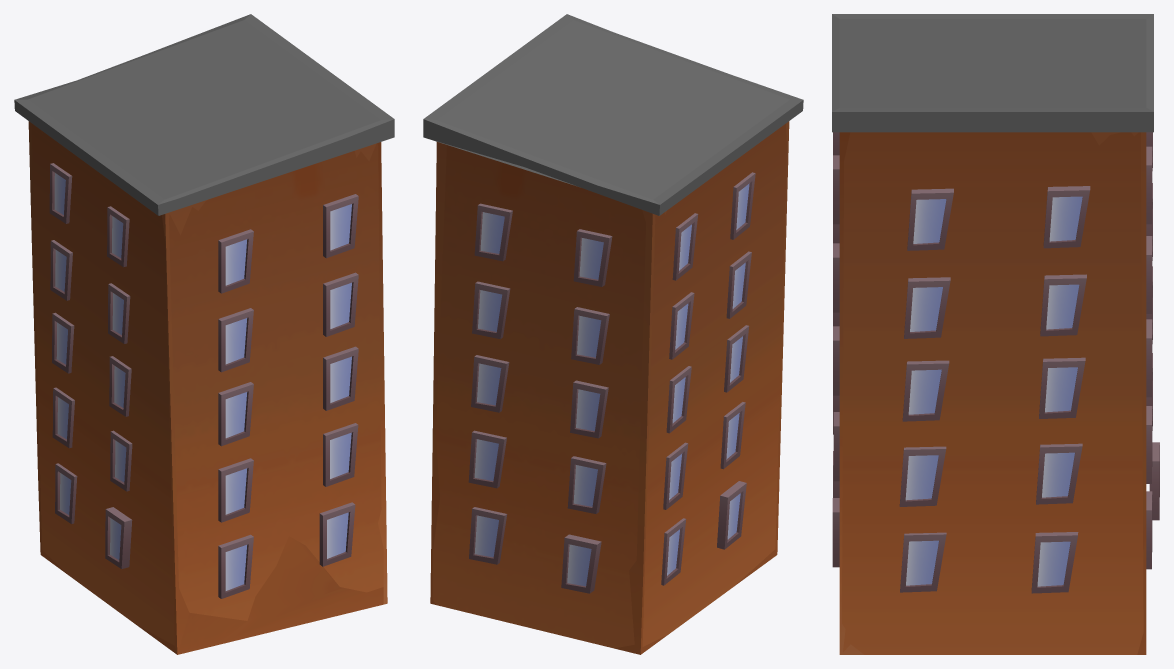
File: SM_Building3.fbx
3 renders of one model, left to right at view 1: azimuth 30°, elevation 25°; view 2: azimuth 150°, elevation 25°; view 3: azimuth 270°, elevation 25°, orthographic. The views are drawn at different scales.
Visible parts, largest first — view 1: Cube.108; view 2: Cube.108; view 3: Cube.108.
Boxes of the visible parts, x1=… form: Cube.108: x1=14, y1=14, x2=394, y2=654; Cube.108: x1=423, y1=14, x2=803, y2=654; Cube.108: x1=832, y1=14, x2=1159, y2=654.
Size of the model in its own units: 16.9 by 33.02 by 17.99.
